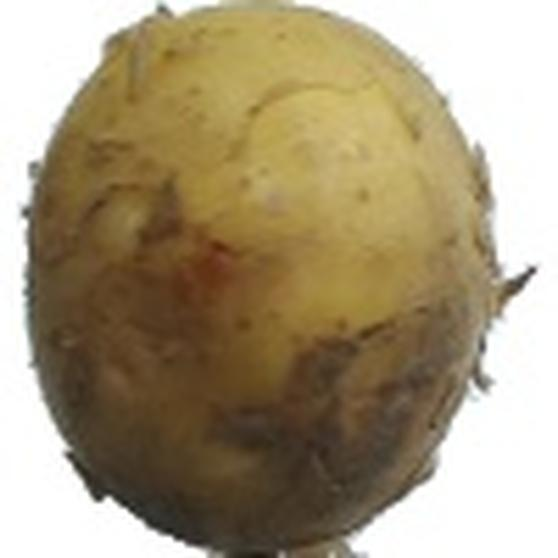potato: (14, 1, 516, 558)
